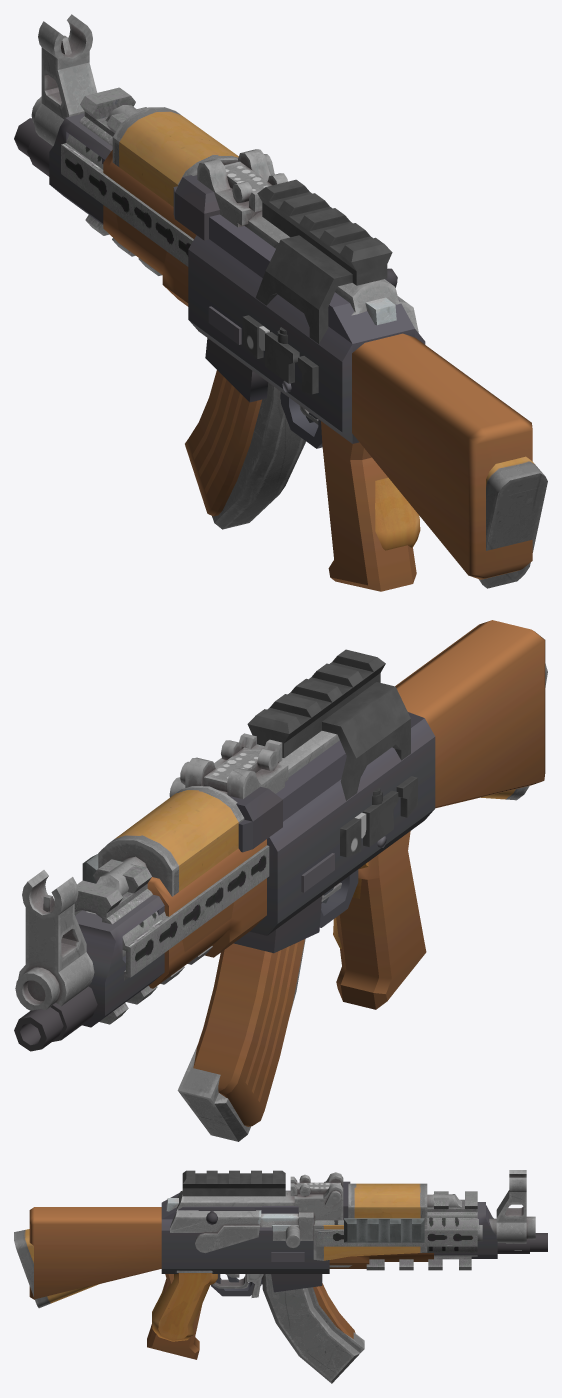
The model's file is Agent_Handheld_Gun_AK47.fbx.
The picture shows the model from 3 angles, top to bottom: view 1: azimuth 30°, elevation 25°; view 2: azimuth 150°, elevation 25°; view 3: azimuth 270°, elevation 25°; orthographic projection. The views are drawn at different scales.
Parts seen in each view (by area): view 1: Rifle03, WPN_AK47, ShowIf_Scope, ShowIf_Grip, HideIf_Grip, HideIf_Stock; view 2: Rifle03, WPN_AK47, ShowIf_Scope, HideIf_Grip, ShowIf_Grip; view 3: Rifle03, WPN_AK47, ShowIf_Grip, HideIf_Grip, ShowIf_Scope, ShowIf_Tec, HideIf_Stock.
Part boxes in pixels (bbox=[...]): Rifle03: bbox=[14, 113, 532, 591]; WPN_AK47: bbox=[31, 14, 420, 550]; ShowIf_Scope: bbox=[242, 179, 392, 394]; ShowIf_Grip: bbox=[61, 87, 193, 275]; HideIf_Grip: bbox=[105, 105, 238, 206]; HideIf_Stock: bbox=[478, 456, 547, 588]; Rifle03: bbox=[14, 620, 545, 1126]; WPN_AK47: bbox=[15, 731, 368, 1141]; ShowIf_Scope: bbox=[247, 649, 417, 857]; HideIf_Grip: bbox=[86, 786, 244, 957]; ShowIf_Grip: bbox=[74, 845, 269, 1024]; Rifle03: bbox=[29, 1181, 547, 1359]; WPN_AK47: bbox=[152, 1170, 535, 1383]; ShowIf_Grip: bbox=[314, 1191, 477, 1270]; HideIf_Grip: bbox=[313, 1183, 482, 1260]; ShowIf_Scope: bbox=[182, 1170, 285, 1196]; ShowIf_Tec: bbox=[344, 1218, 424, 1242]; HideIf_Stock: bbox=[14, 1229, 99, 1308].
Bounding box in the file's own units: 0.1812 × 0.4711 × 1.1.
